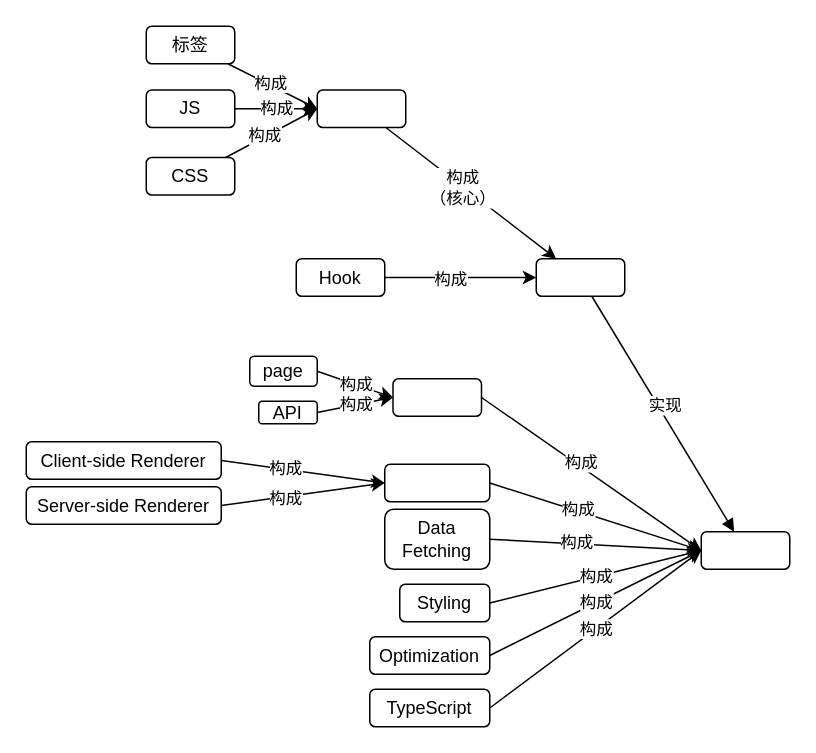
The diagram is 816 pixels wide and 753 high, and some of its shapes have lost their labels. Here are the shapes that lost their labels. From the top down, the centre of each, then its label:
(361,108): 组件
(580,276): React
(437,396): Router
(436,482): Renderer
(745,549): Next.js
